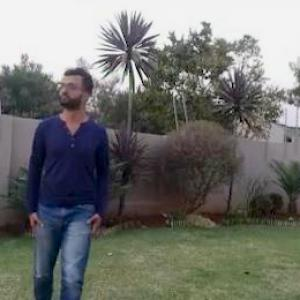follow: (20, 43, 113, 299)
